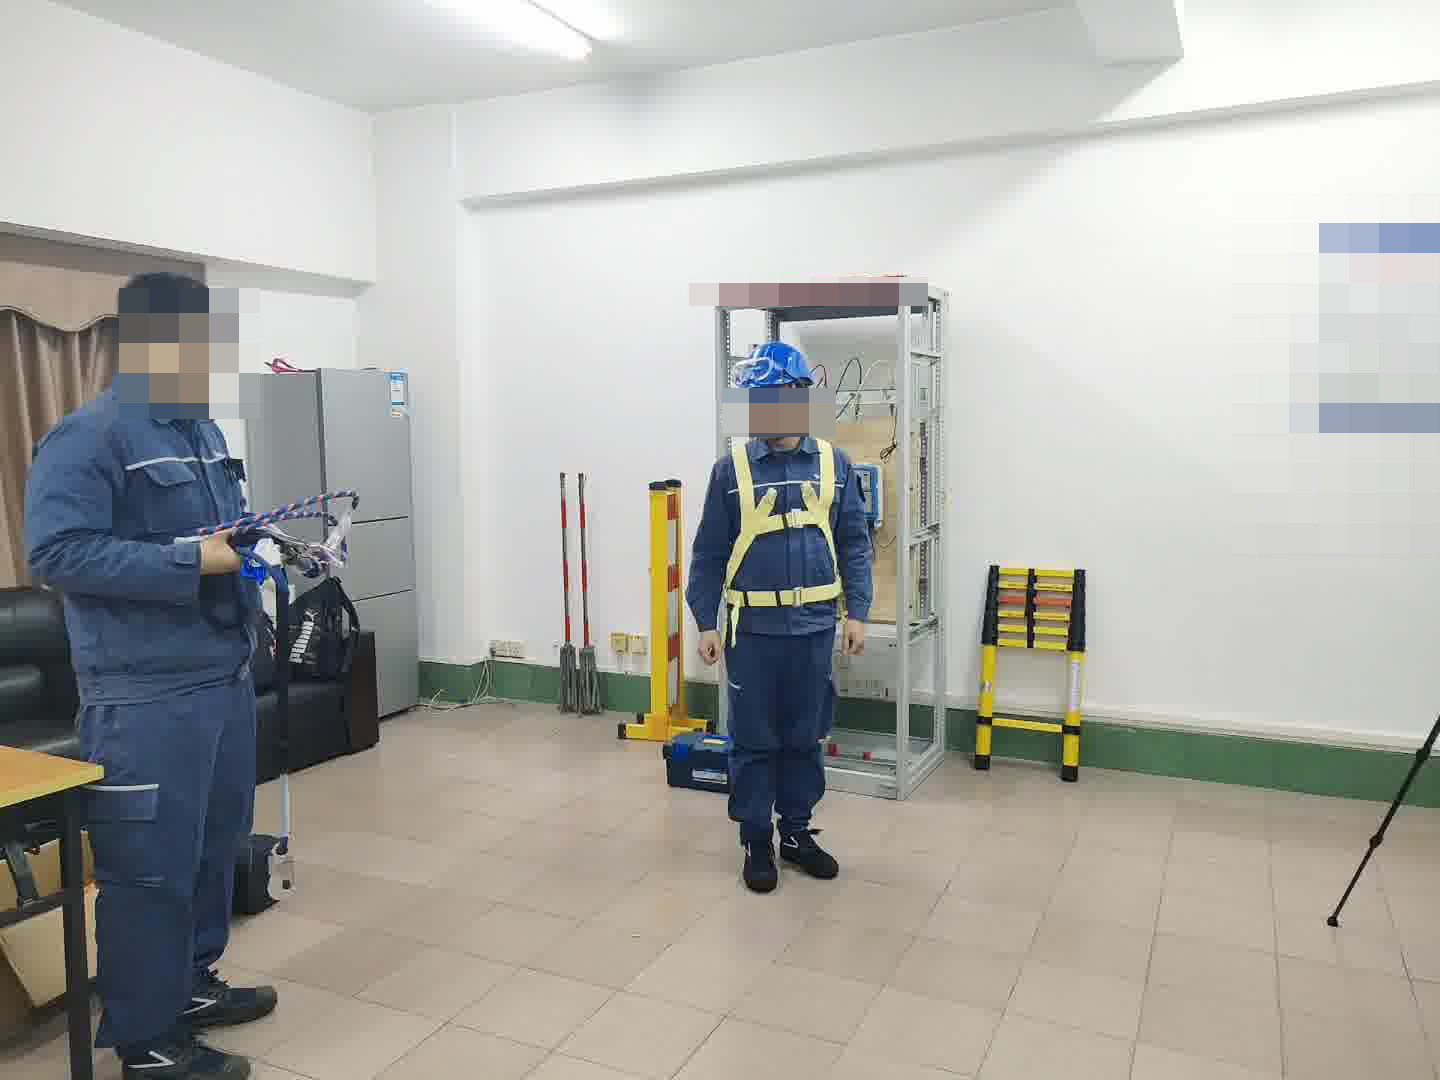downsuit: (82, 705, 259, 1046), (722, 643, 837, 842)
halt: (110, 271, 233, 402), (735, 338, 819, 443)
hand: (202, 529, 245, 578), (840, 623, 864, 658), (698, 631, 720, 662)
inear: (789, 386, 811, 425)
noear: (122, 316, 196, 392)
person: (21, 265, 310, 1080), (681, 339, 882, 889)
safebelt: (714, 439, 846, 622)
upsuit: (27, 380, 265, 687), (696, 434, 869, 629)
